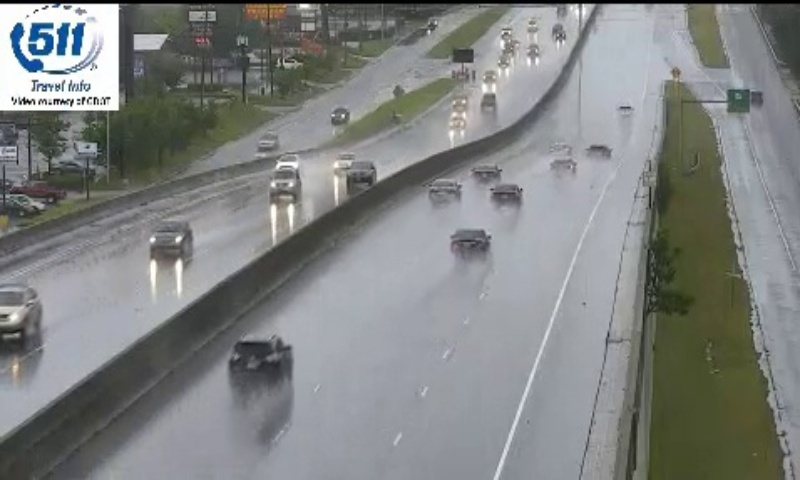car: (229, 335, 291, 394), (450, 228, 490, 260), (426, 177, 461, 203), (490, 182, 522, 209), (471, 163, 500, 186)
